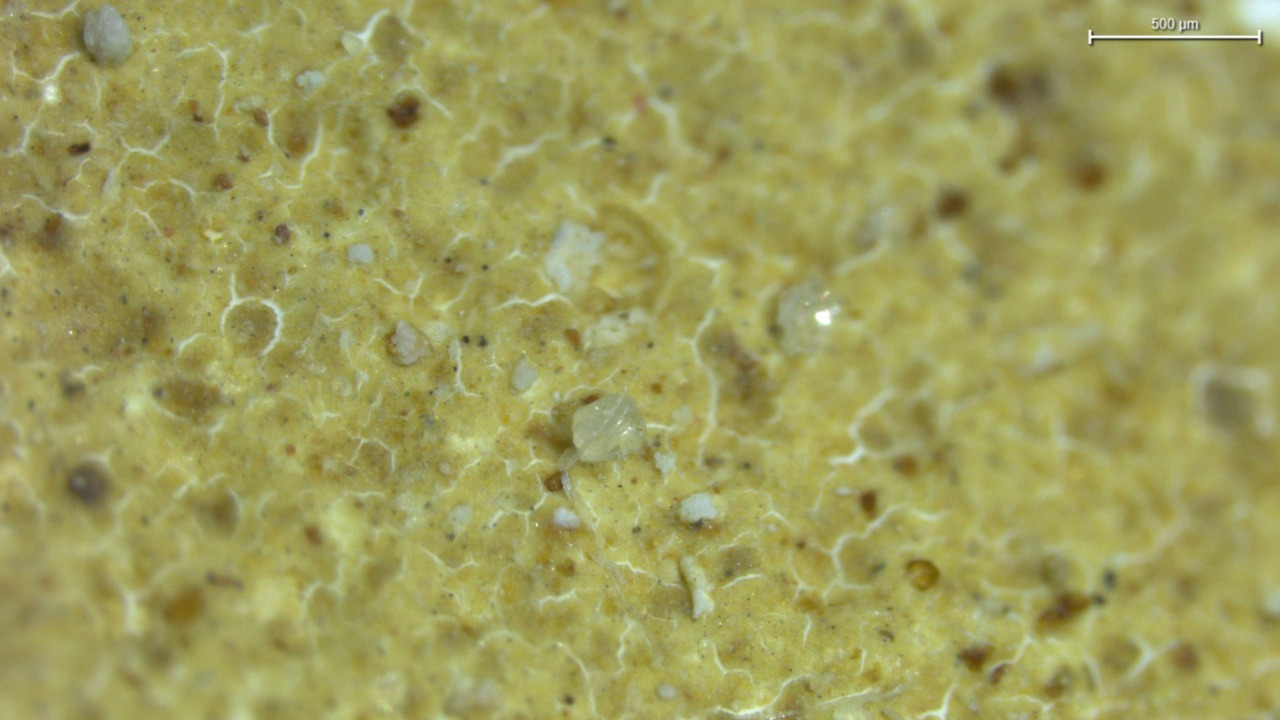microplastic_fragment: (572, 393, 645, 462), (81, 5, 132, 65)
